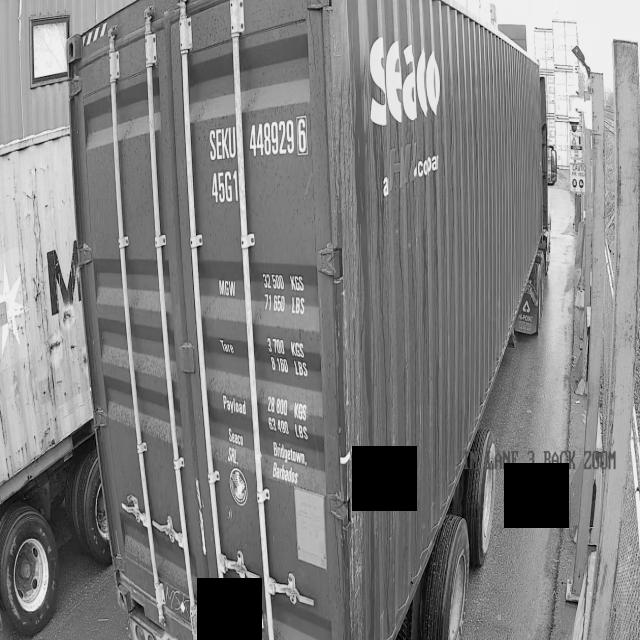container_company_logo: (359, 38, 469, 223)
container_number: (202, 115, 314, 241)
other_container_info: (211, 261, 321, 499)
truck_with_container: (68, 0, 559, 640)
